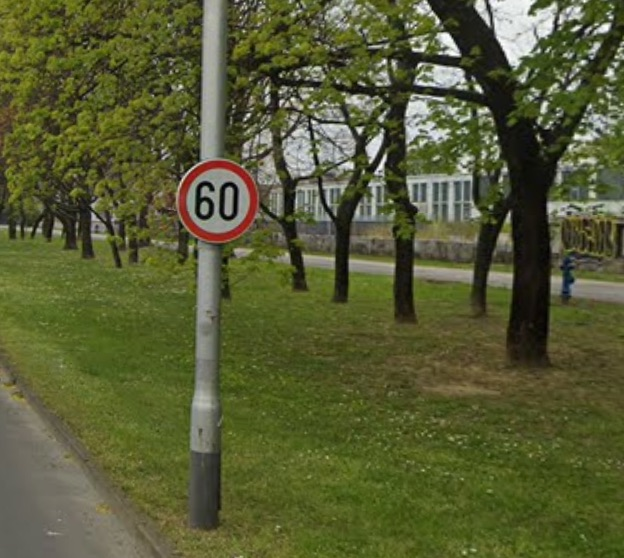Ograničenje brzine 60: (176, 158, 259, 244)
